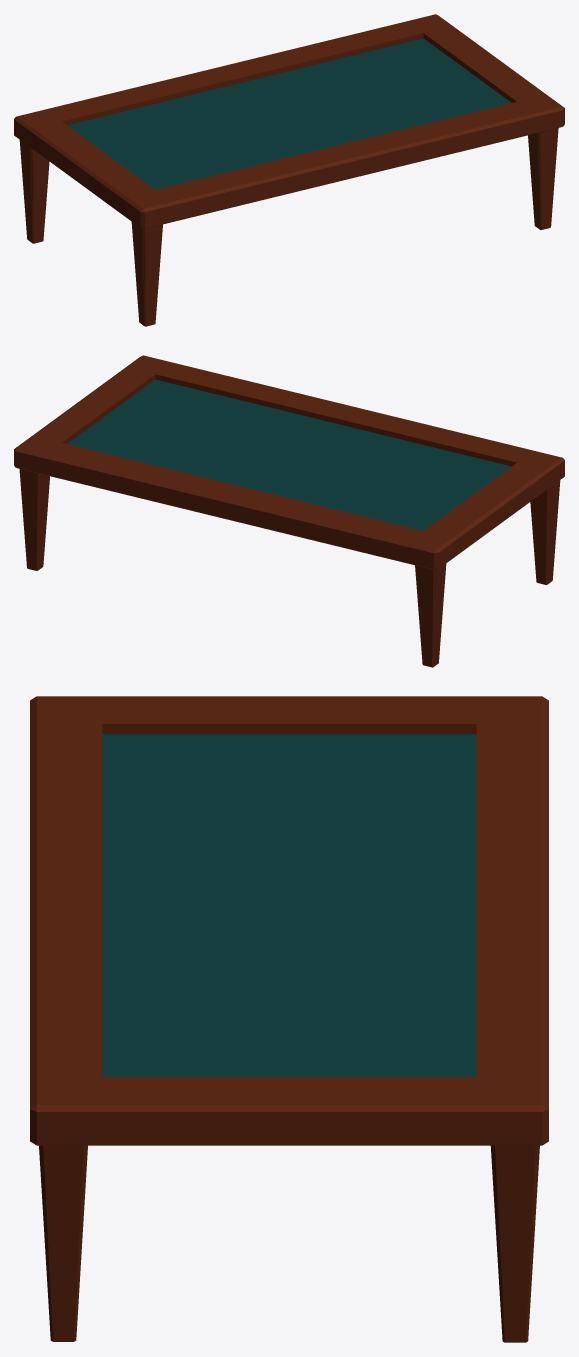
The model's file is hh_coffee_table.glb.
3 views of the same model, one above another, from view 1: azimuth 30°, elevation 25°; view 2: azimuth 150°, elevation 25°; view 3: azimuth 270°, elevation 25° (orthographic). The views are drawn at different scales.
Parts seen in each view (by area): view 1: Table_C; view 2: Table_C; view 3: Table_C.
Part boxes in pixels (box(x1,y1,x2,y2)): Table_C: box(14, 14, 564, 326); Table_C: box(14, 355, 564, 667); Table_C: box(30, 696, 548, 1342).
Bounding box in the file's own units: 1.35 × 0.3704 × 0.7117.
